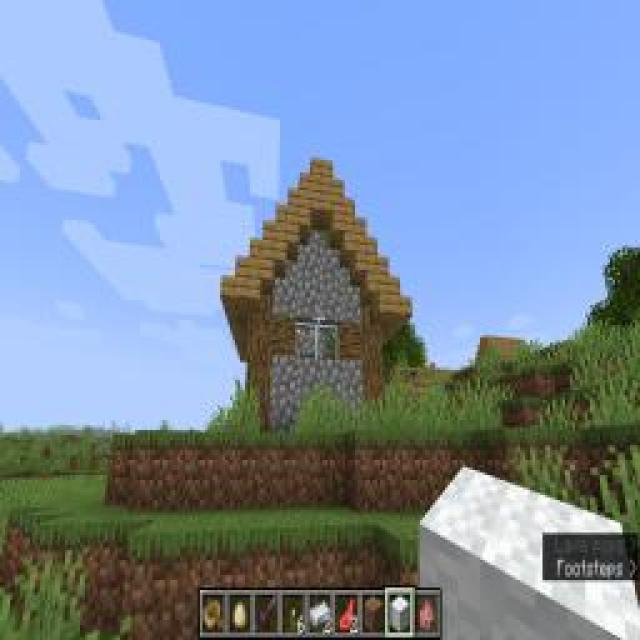Villager: (216, 146, 416, 432)
